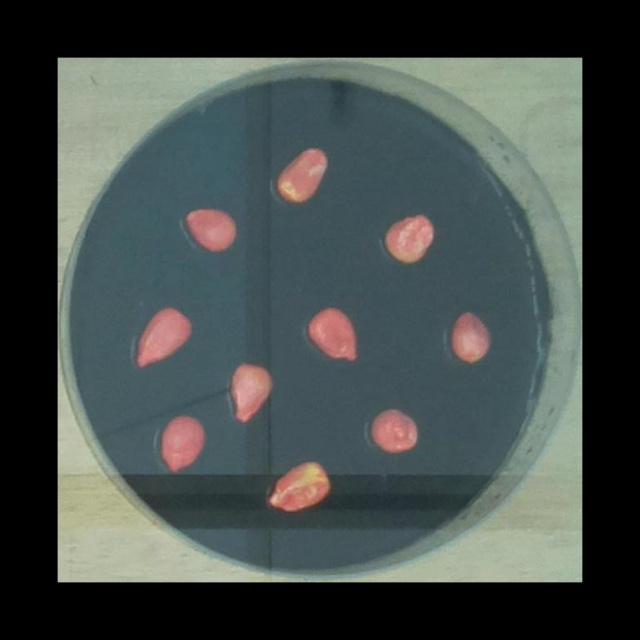Zea mays: (129, 301, 197, 373), (263, 455, 335, 518), (269, 142, 333, 208), (302, 302, 363, 368), (224, 357, 279, 428), (156, 409, 211, 479), (379, 208, 440, 269), (178, 201, 241, 256), (365, 402, 424, 458), (447, 304, 495, 368)
